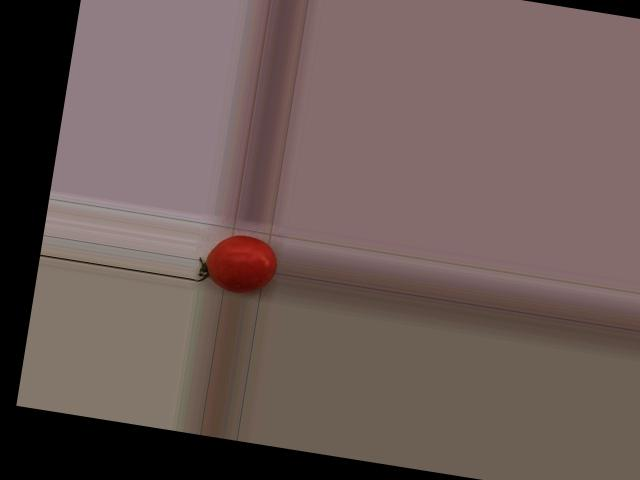tomato: (202, 230, 280, 298)
